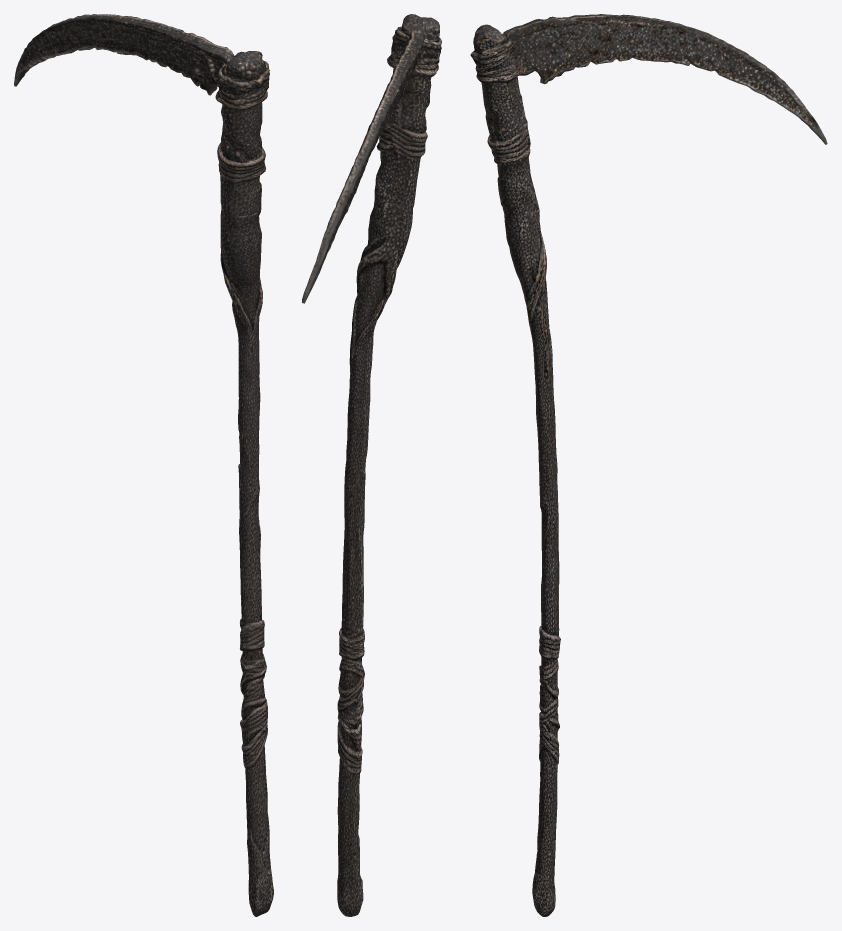
The model's file is scythe-fitted.glb.
3 views of the same model, side by side, from view 1: azimuth 30°, elevation 25°; view 2: azimuth 150°, elevation 25°; view 3: azimuth 270°, elevation 25° (orthographic). The views are drawn at different scales.
Parts seen in each view (by area): view 1: tripo_node_af79631f-82e0-464d-a860-eddbc04395c1; view 2: tripo_node_af79631f-82e0-464d-a860-eddbc04395c1; view 3: tripo_node_af79631f-82e0-464d-a860-eddbc04395c1.
Part boxes in pixels (box(x1,y1,x2,y2)): tripo_node_af79631f-82e0-464d-a860-eddbc04395c1: box(14, 14, 273, 916); tripo_node_af79631f-82e0-464d-a860-eddbc04395c1: box(302, 14, 441, 916); tripo_node_af79631f-82e0-464d-a860-eddbc04395c1: box(470, 14, 827, 916).
Bounding box in the file's own units: 0.4497 × 3.2 × 1.19.
1 material, 1 textured.
